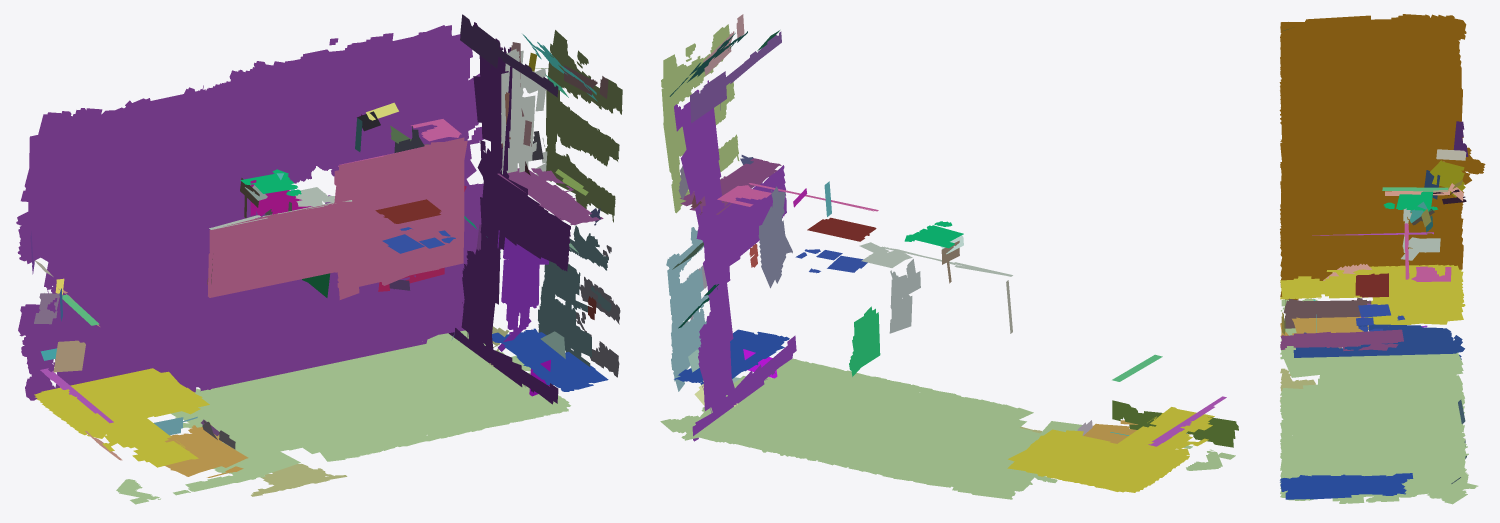
Rendered from dfac5b38df_simple.glb.
The picture shows the model from 3 angles, left to right: view 1: azimuth 30°, elevation 25°; view 2: azimuth 150°, elevation 25°; view 3: azimuth 270°, elevation 25°; orthographic projection. The views are drawn at different scales.
Size of the model in its own units: 6.45 by 4.22 by 2.53.
